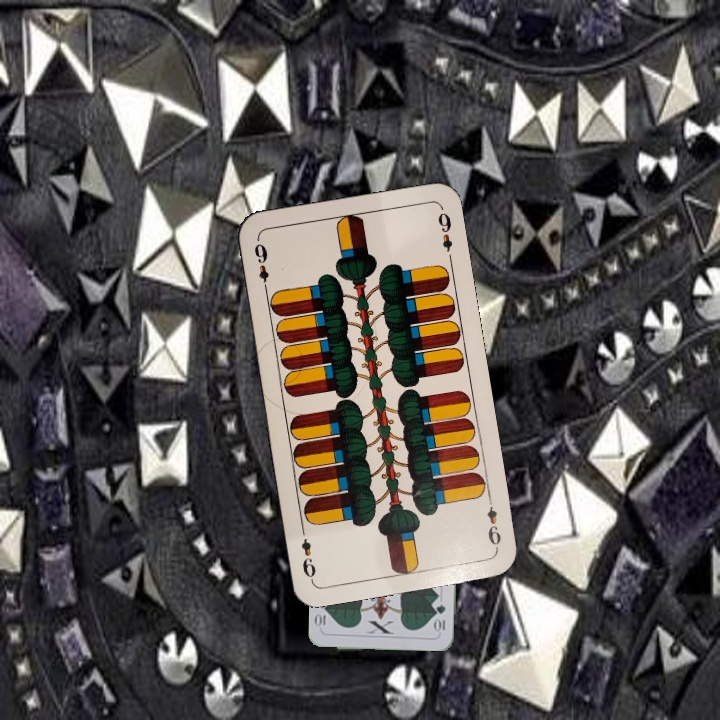E9: (250, 236, 271, 295), (483, 493, 504, 552)
G10: (432, 601, 448, 635)
